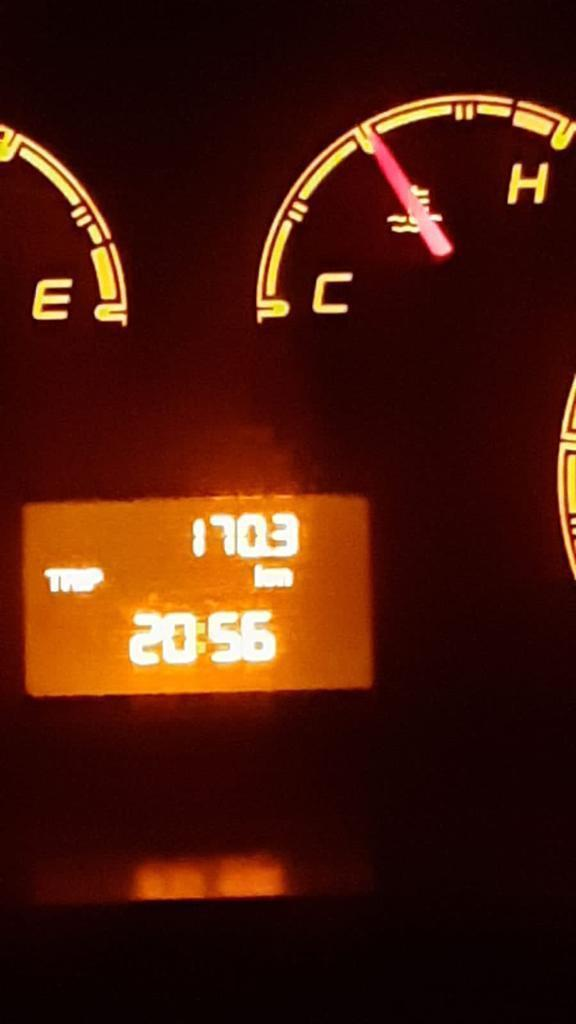,: (264, 543, 272, 558)
0: (164, 609, 195, 665), (236, 510, 264, 558)
1: (189, 516, 207, 559)
2: (128, 609, 163, 665)
3: (272, 511, 301, 557)
5: (207, 609, 241, 663)
6: (242, 608, 279, 663)
7: (209, 511, 236, 557)
X: (267, 566, 297, 592), (86, 564, 104, 593), (59, 566, 77, 593), (195, 618, 206, 657), (44, 567, 60, 593), (254, 562, 267, 591), (79, 566, 85, 595)
odometer: (11, 484, 389, 710)
